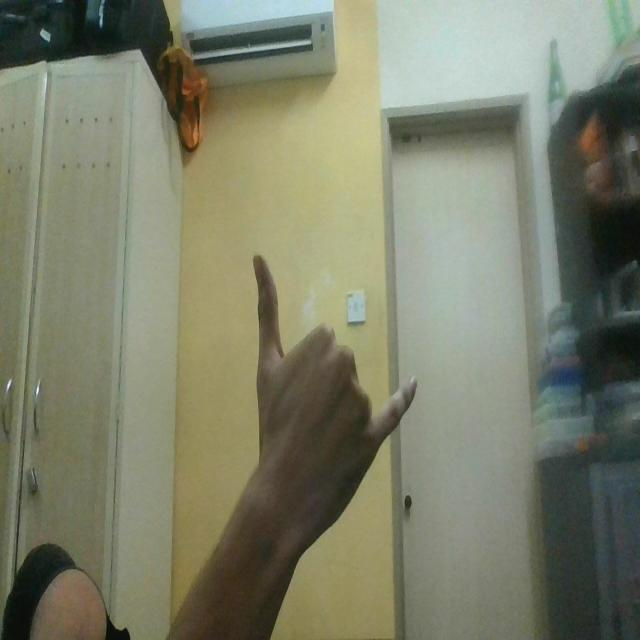shaka: (245, 248, 421, 576)
